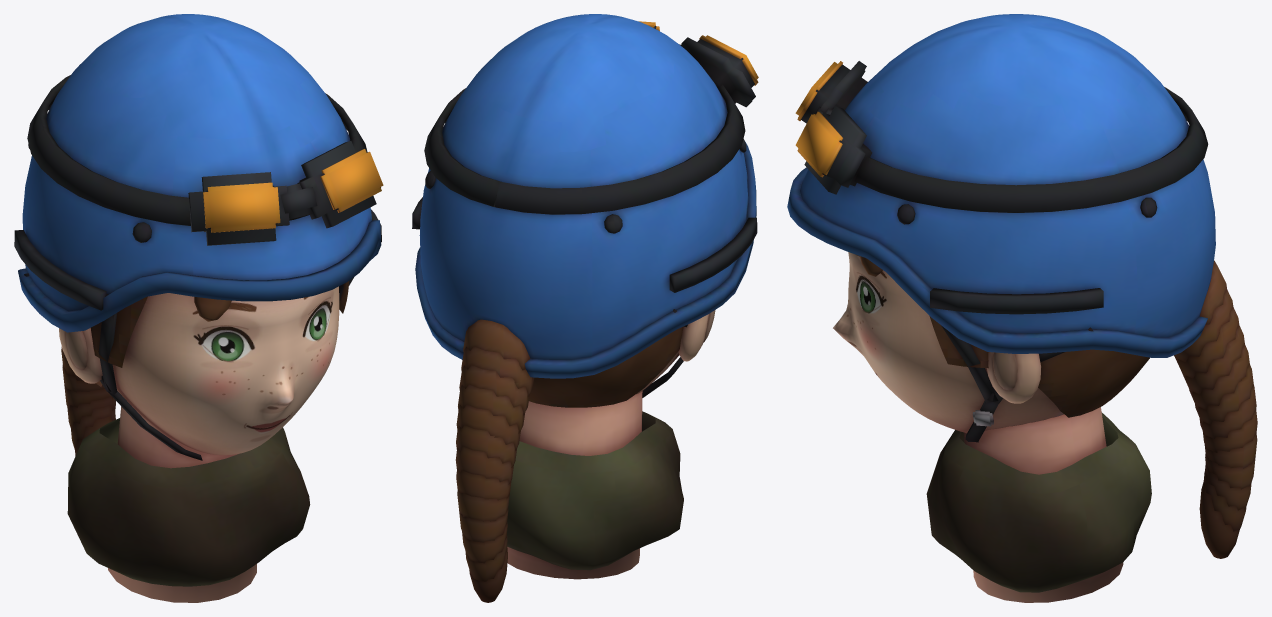
The model's file is cabeza-rifle-f.glb.
3 views of the same model, side by side, from view 1: azimuth 30°, elevation 25°; view 2: azimuth 150°, elevation 25°; view 3: azimuth 270°, elevation 25° (orthographic). The views are drawn at different scales.
Visible parts, largest first — view 1: h_Head; view 2: h_Head; view 3: h_Head.
Part boxes in pixels (x1=…): h_Head: x1=14, y1=14, x2=383, y2=602; h_Head: x1=412, y1=14, x2=758, y2=602; h_Head: x1=787, y1=14, x2=1257, y2=602.
Size of the model in its own units: 0.2327 by 0.4013 by 0.31.
Materials: 1 (1 with a texture image).
